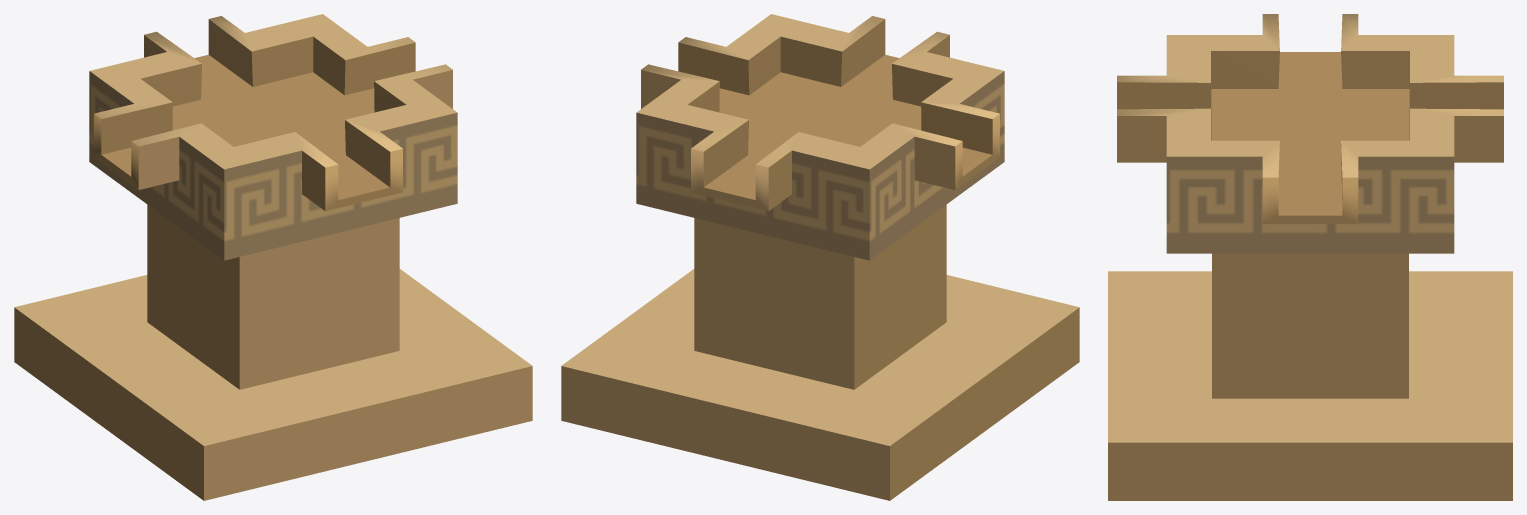
Rendered from ST_Prop_Alter_01.fbx.
3 views of the same model, side by side, from view 1: azimuth 30°, elevation 25°; view 2: azimuth 150°, elevation 25°; view 3: azimuth 270°, elevation 25° (orthographic). The views are drawn at different scales.
Parts seen in each view (by area): view 1: ST_Prop_Alter_01; view 2: ST_Prop_Alter_01; view 3: ST_Prop_Alter_01.
Boxes of the visible parts, <box> form: ST_Prop_Alter_01: <box>14,14,532,500</box>; ST_Prop_Alter_01: <box>561,14,1079,500</box>; ST_Prop_Alter_01: <box>1108,14,1512,500</box>.
Size of the model in its own units: 2.45 by 2.14 by 2.45.
